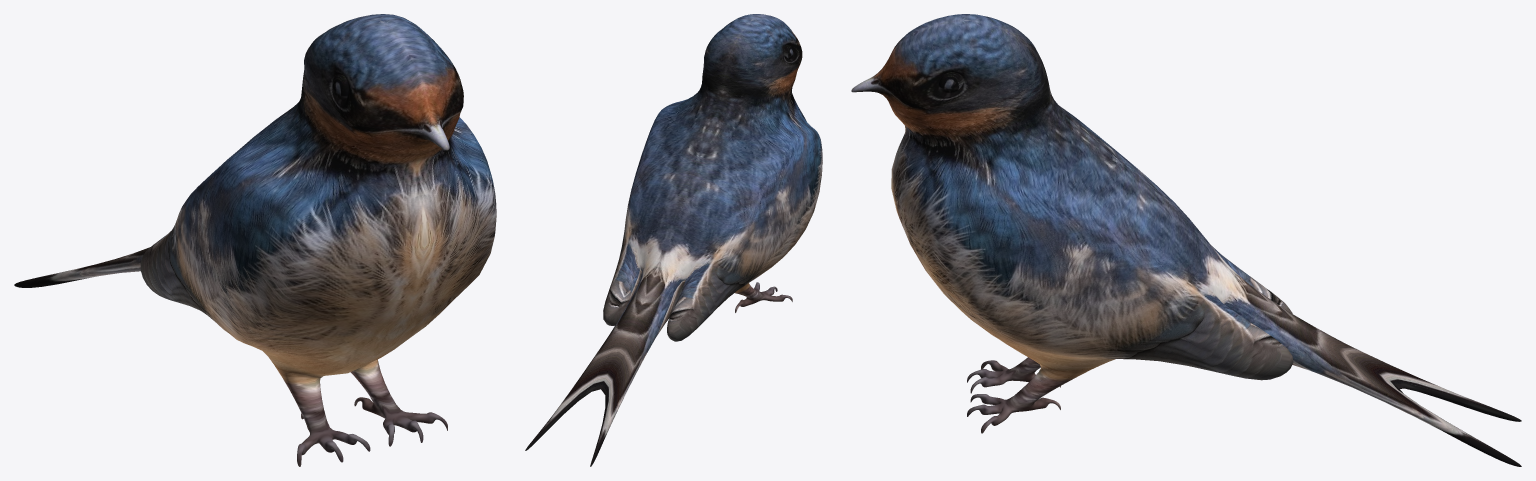
Rendered from swallow.glb.
The picture shows the model from 3 angles, left to right: view 1: azimuth 30°, elevation 25°; view 2: azimuth 150°, elevation 25°; view 3: azimuth 270°, elevation 25°; orthographic projection. The views are drawn at different scales.
Visible parts, largest first — view 1: Cube_0; view 2: Cube_0; view 3: Cube_0.
Boxes of the visible parts, x1,y1,x2,y2 form: Cube_0: (14, 14, 496, 466); Cube_0: (525, 14, 822, 466); Cube_0: (851, 14, 1521, 466).
Size of the model in its own units: 0.1065 by 0.2022 by 0.2897.
1 material, 1 textured.
